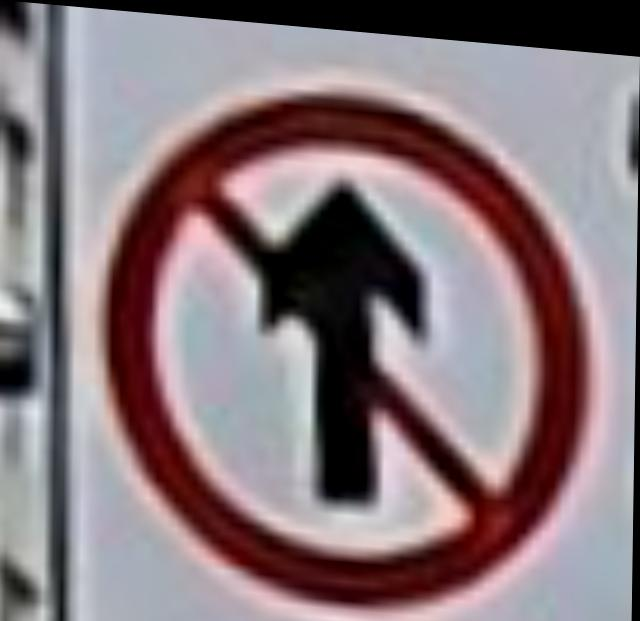not_go_straight: (72, 47, 593, 621)
